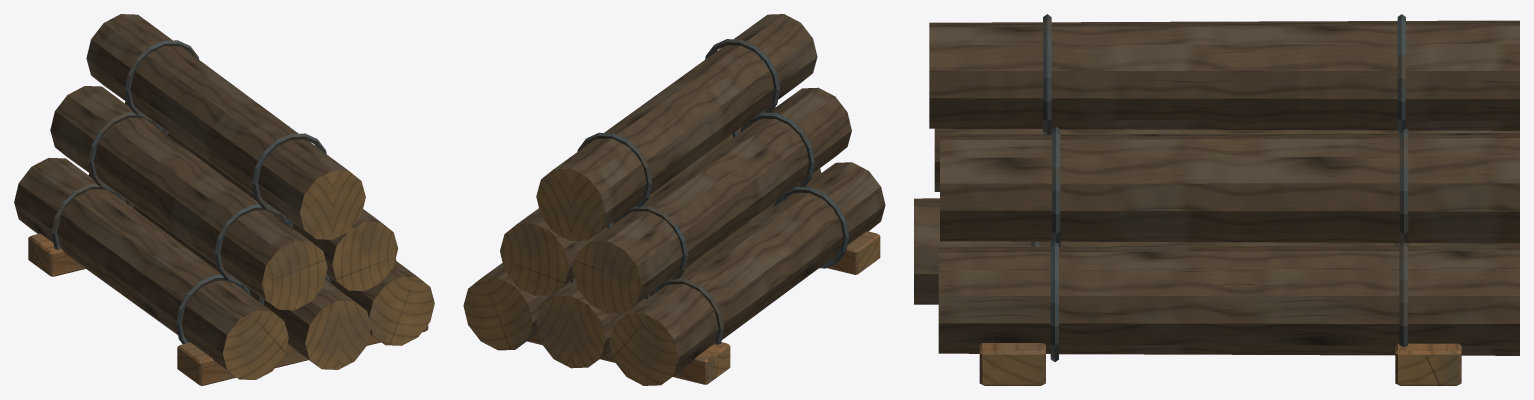
File: w17_log_stack.fbx
The picture shows the model from 3 angles, left to right: view 1: azimuth 30°, elevation 25°; view 2: azimuth 150°, elevation 25°; view 3: azimuth 270°, elevation 25°; orthographic projection. The views are drawn at different scales.
Visible parts, largest first — view 1: w17_log_stack; view 2: w17_log_stack; view 3: w17_log_stack.
Boxes of the visible parts, x1,y1,x2,y2 form: w17_log_stack: [14, 14, 434, 385]; w17_log_stack: [463, 14, 885, 385]; w17_log_stack: [914, 14, 1519, 385].
Bounding box in the file's own units: 13300 × 21866 × 11530.
